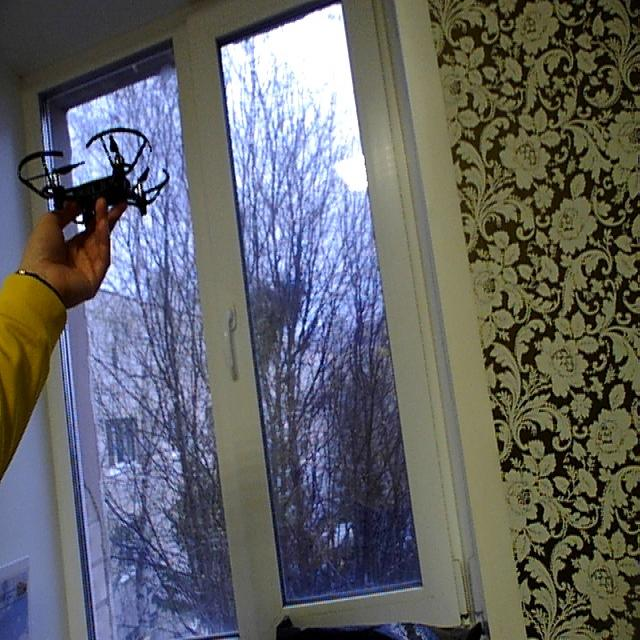drone: (15, 128, 178, 240)
